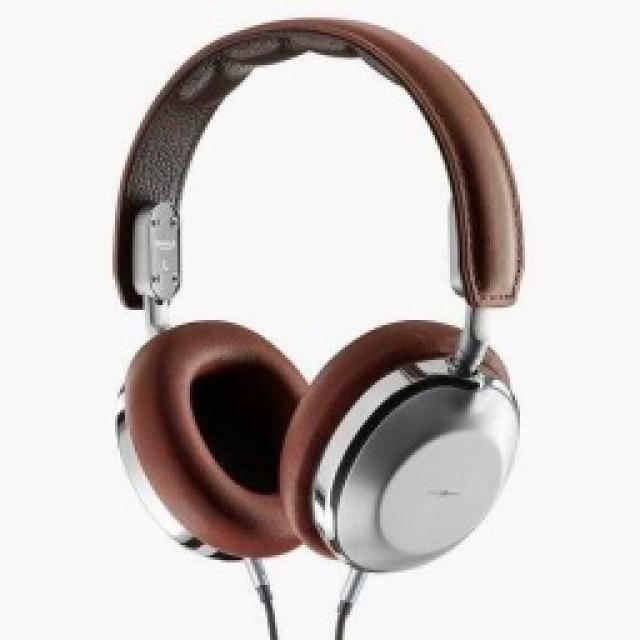headphones: (110, 13, 525, 575)
